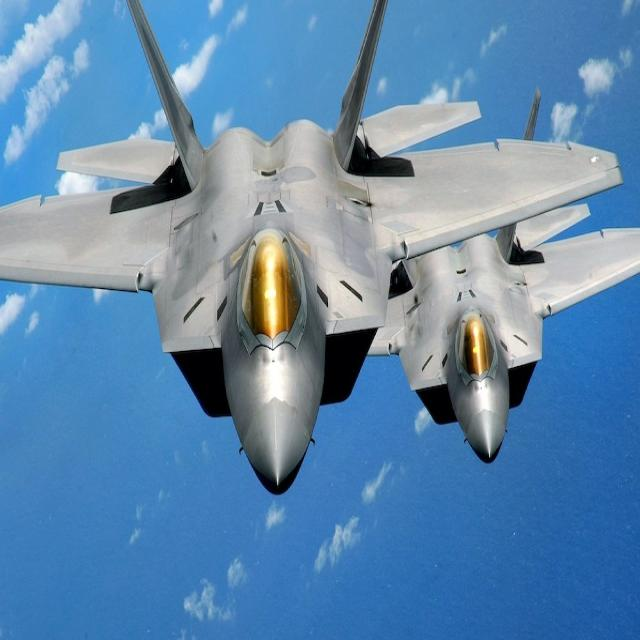F22: (0, 26, 640, 500)
